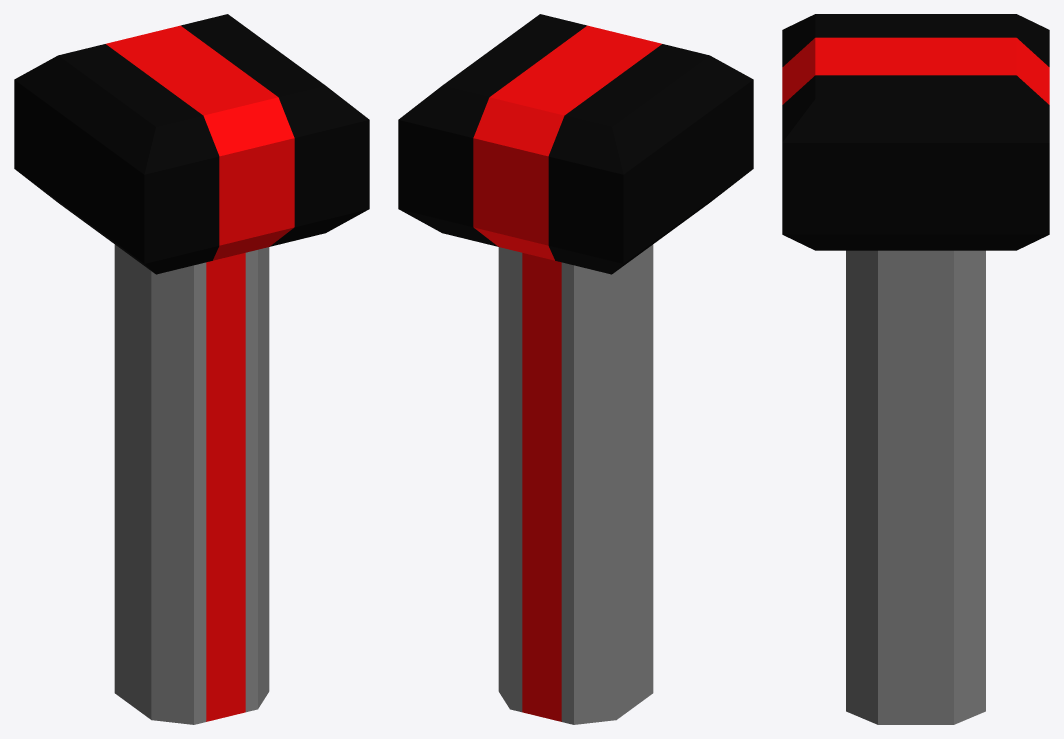
The model's file is Stick.fbx.
3 views of the same model, side by side, from view 1: azimuth 30°, elevation 25°; view 2: azimuth 150°, elevation 25°; view 3: azimuth 270°, elevation 25° (orthographic). The views are drawn at different scales.
Parts seen in each view (by area): view 1: stick; view 2: stick; view 3: stick.
Boxes of the visible parts, x1=… form: stick: x1=14, y1=14, x2=369, y2=724; stick: x1=398, y1=14, x2=753, y2=724; stick: x1=782, y1=14, x2=1049, y2=724.
Size of the model in its own units: 0.4216 by 1.11 by 0.4216.
